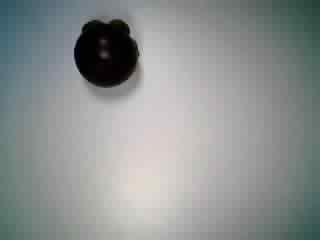mangosteen: (66, 12, 141, 95)
